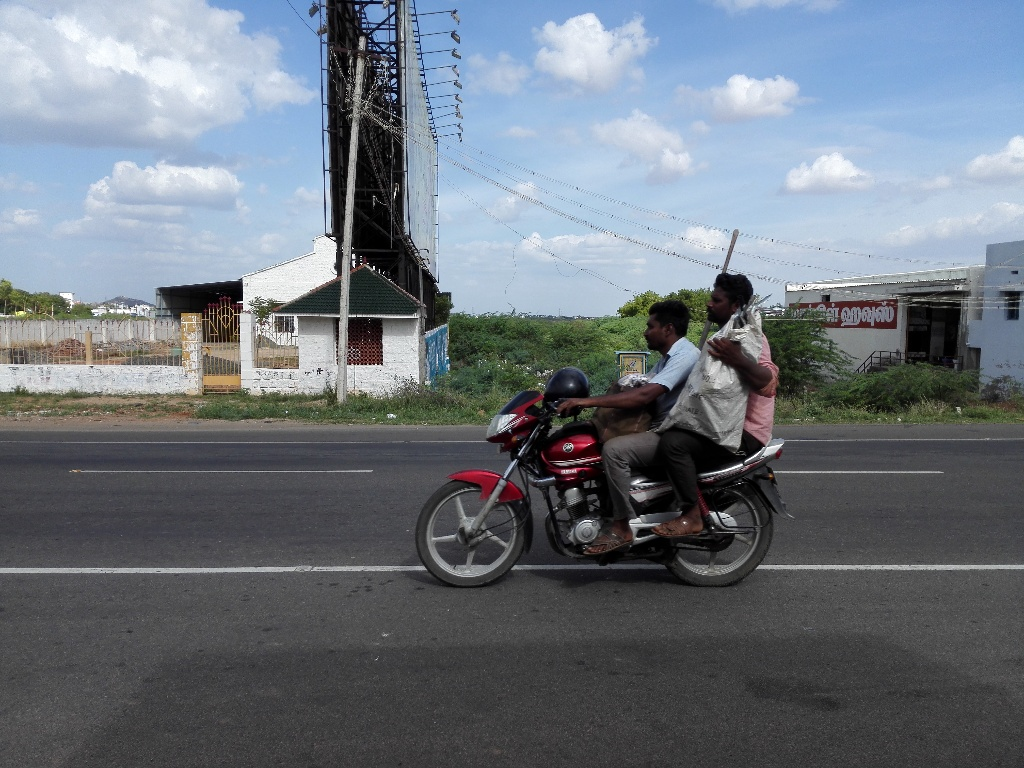biker: (398, 242, 829, 602)
nohelmet: (635, 291, 700, 371), (703, 258, 768, 338)
